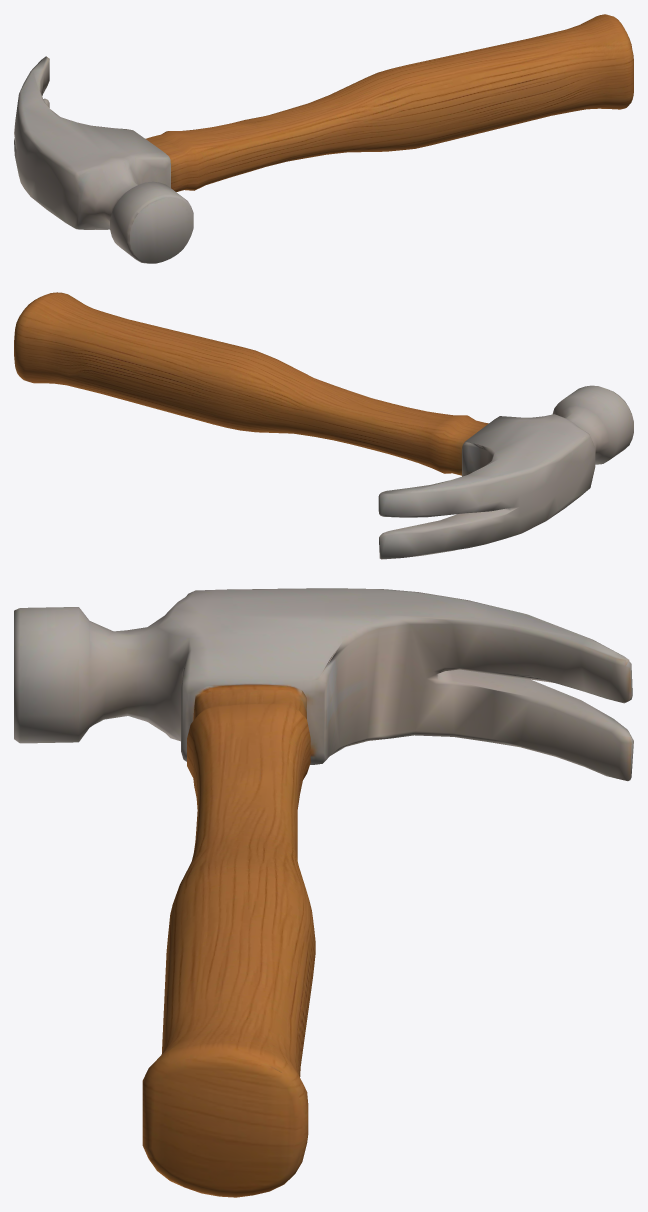
The model's file is hammer_dcec7540_v1.glb.
3 renders of one model, top to bottom at view 1: azimuth 30°, elevation 25°; view 2: azimuth 150°, elevation 25°; view 3: azimuth 270°, elevation 25°, orthographic. The views are drawn at different scales.
Parts seen in each view (by area): view 1: material; view 2: material; view 3: material.
Boxes of the visible parts, x1=… form: material: x1=14, y1=14, x2=633, y2=263; material: x1=14, y1=292, x2=633, y2=559; material: x1=14, y1=588, x2=633, y2=1197.
Size of the model in its own units: 1.9 by 0.2678 by 1.01.
1 material, 1 textured.
